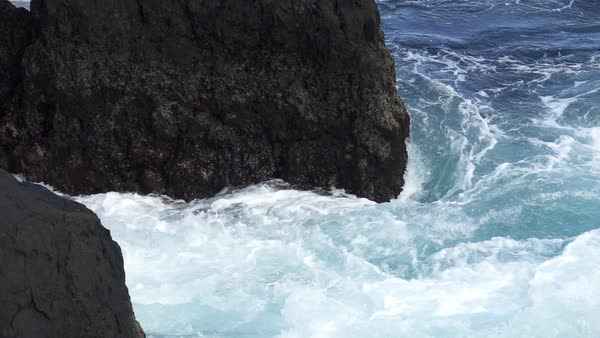volcanic_rock: (48, 9, 364, 170), (5, 198, 89, 338)
